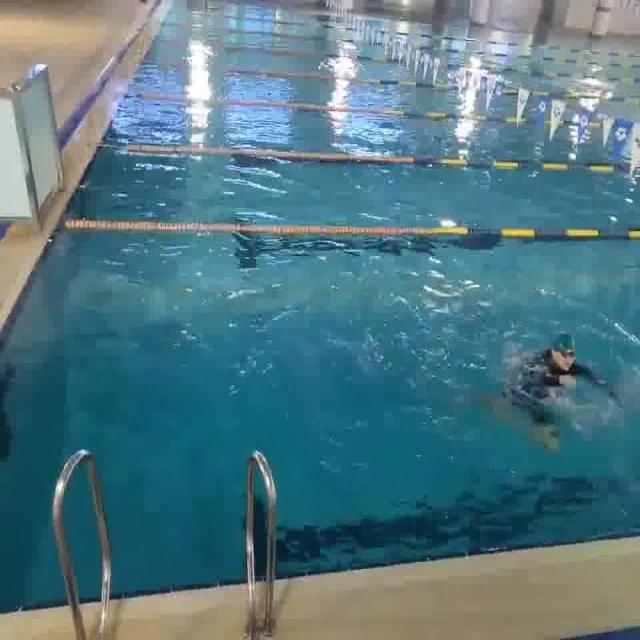Drowning: (496, 319, 612, 453)
